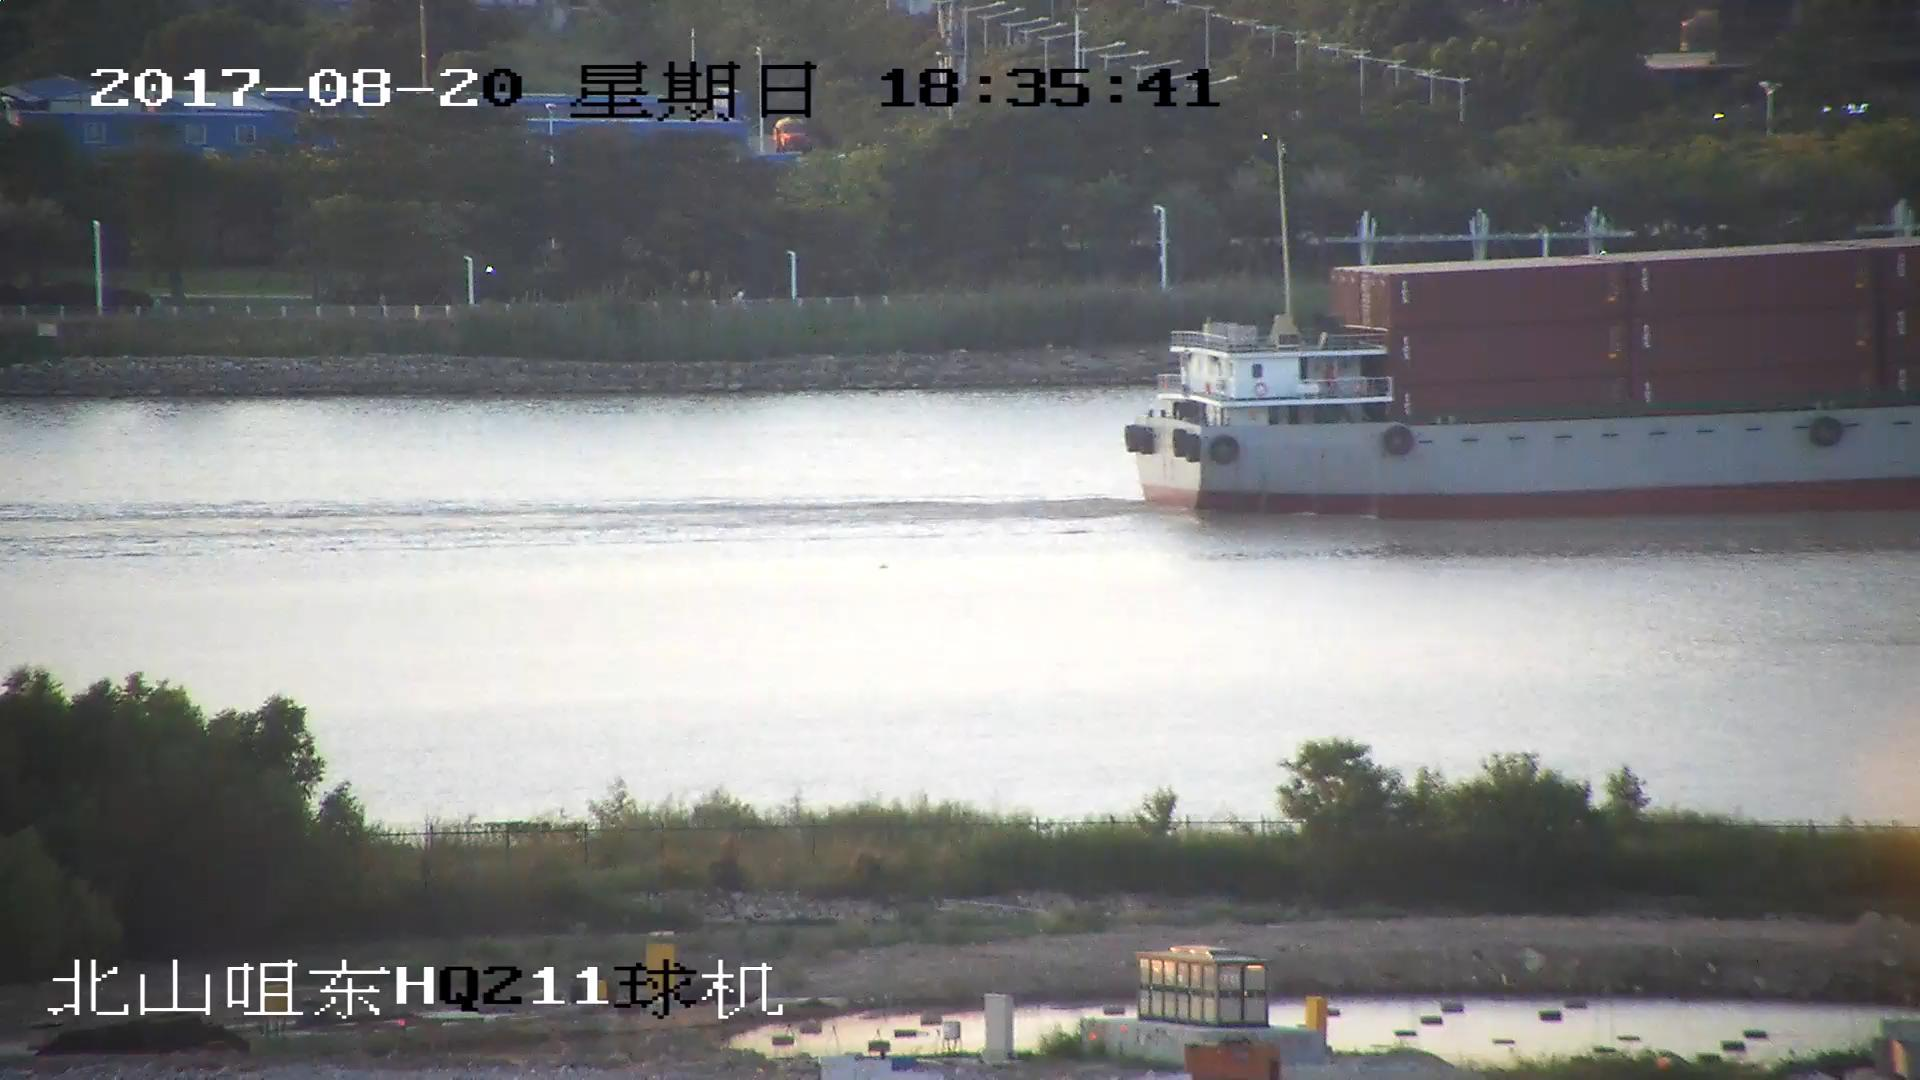Ship: (1125, 243, 1920, 524)
